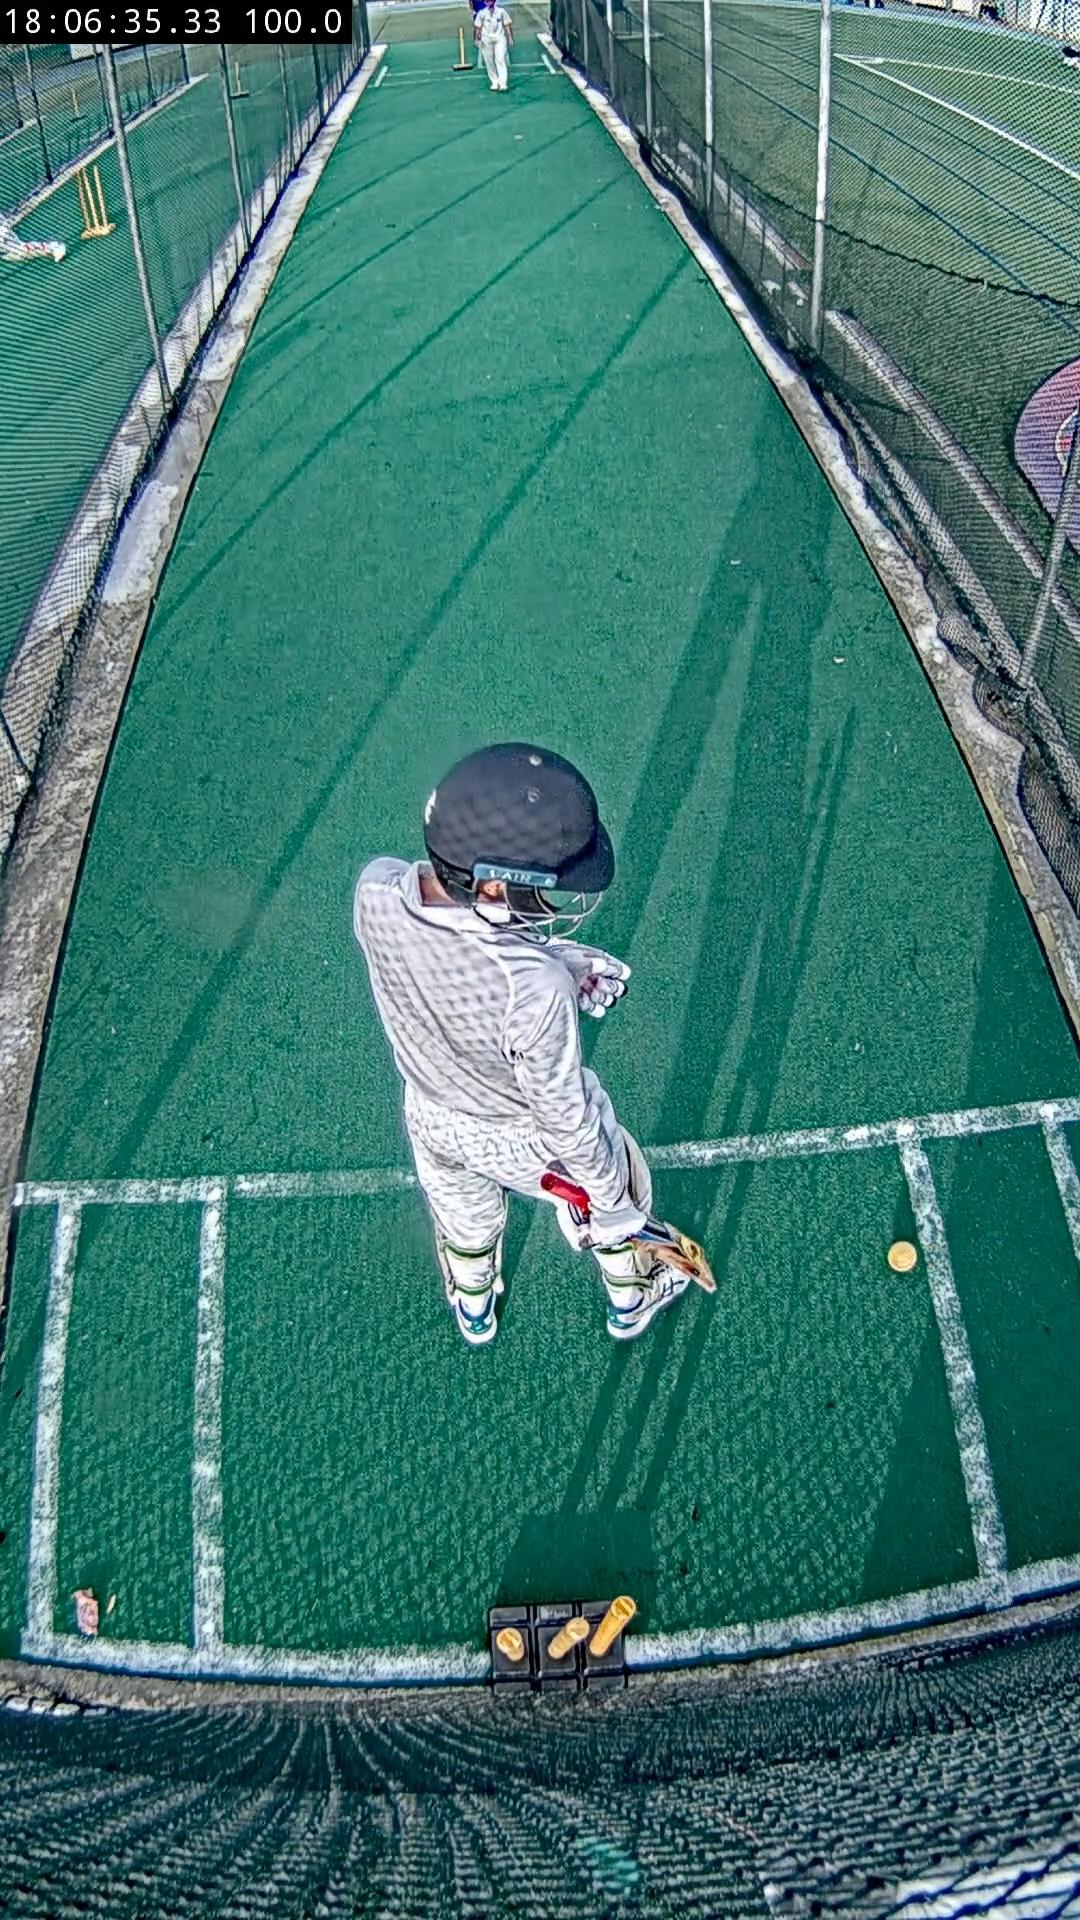ball: (885, 1241, 919, 1271)
bat: (634, 1222, 716, 1294)
gloves: (547, 942, 630, 1018), (555, 1200, 634, 1253)
helmet: (423, 742, 615, 939)
stumps: (488, 1594, 637, 1692)
